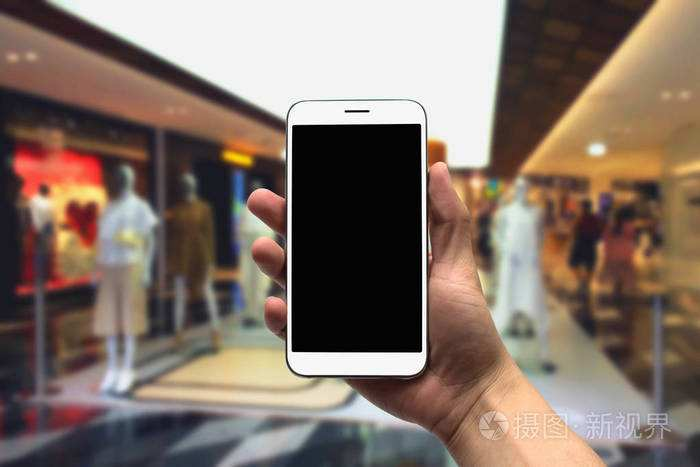phone: (241, 90, 502, 425)
